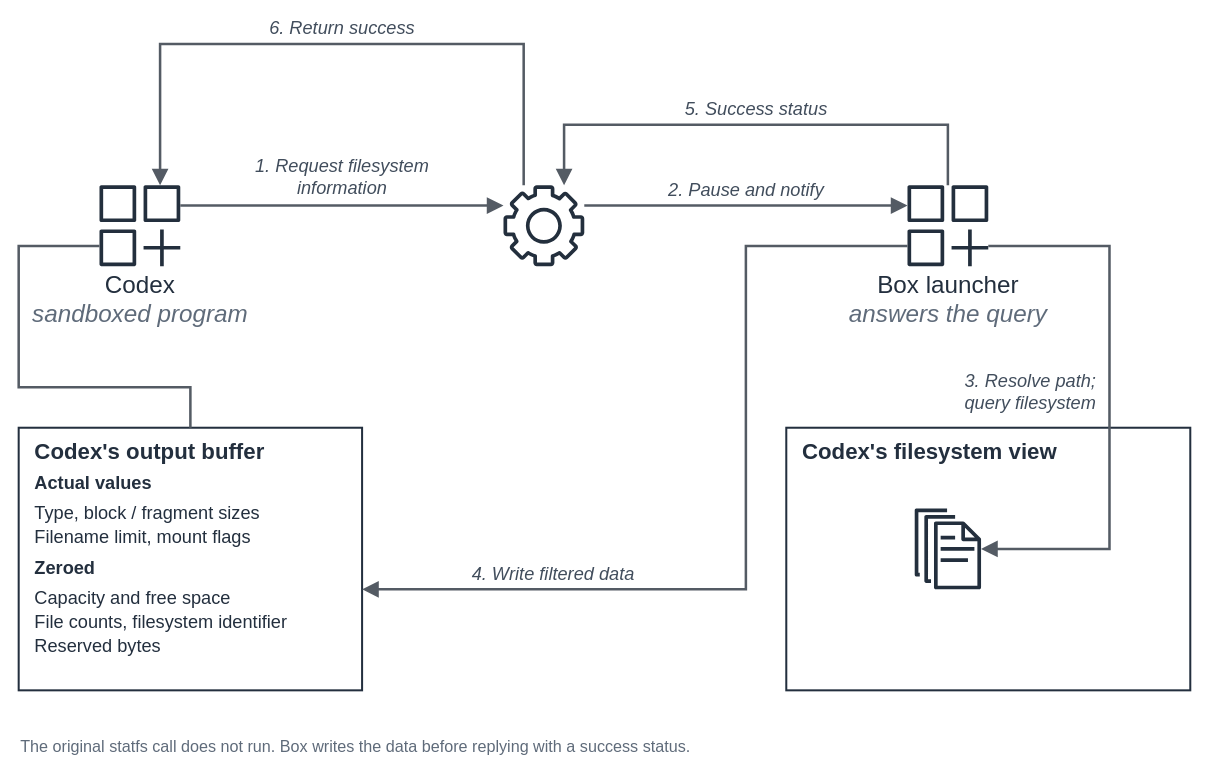
Image size: 1209x778. Some labels were removed from this diagram. Each missing label, with the centre of its shape:
Linux kernel pauses one call: the point at 543,225
Resolved path within Codex's root: the point at 947,548
